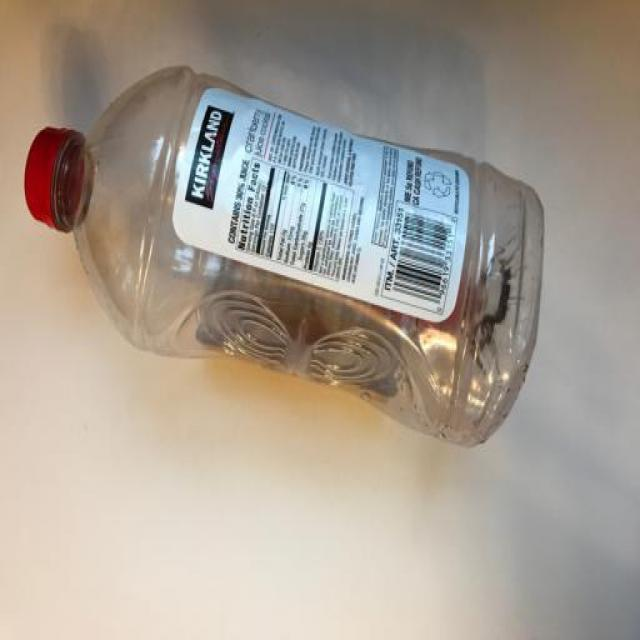plastic_bottle: (3, 55, 568, 450)
